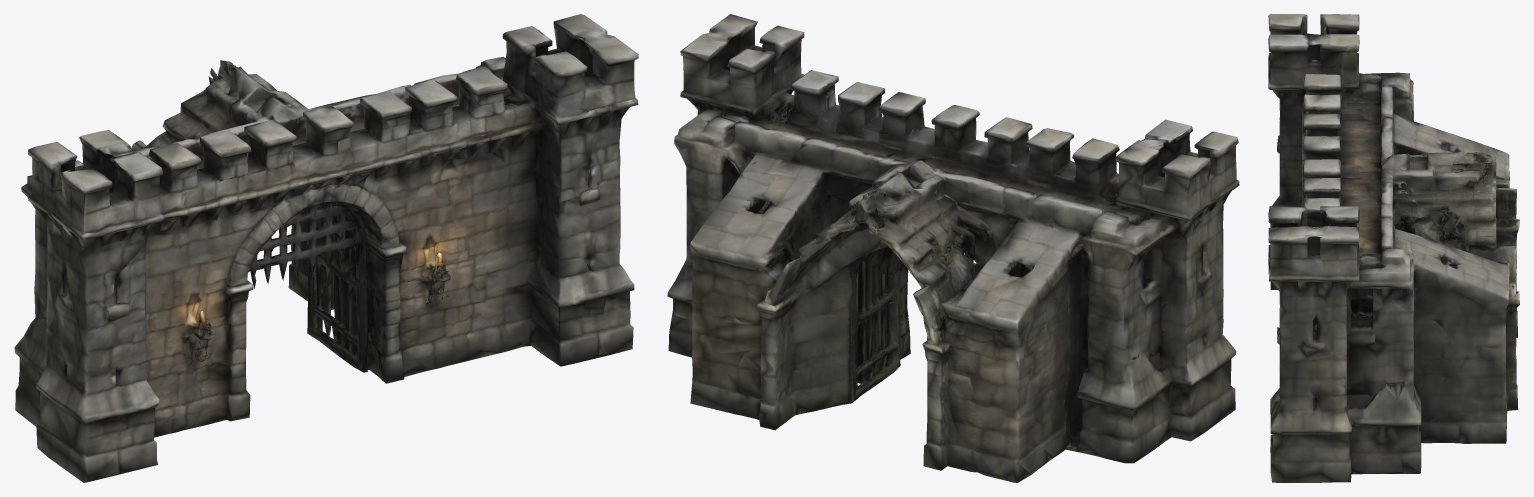
The model's file is fort_m_savanna_gate.glb.
3 views of the same model, side by side, from view 1: azimuth 30°, elevation 25°; view 2: azimuth 150°, elevation 25°; view 3: azimuth 270°, elevation 25° (orthographic). The views are drawn at different scales.
Visible parts, largest first — view 1: fort_m_savanna_gate; view 2: fort_m_savanna_gate; view 3: fort_m_savanna_gate.
Boxes of the visible parts, <box> form: fort_m_savanna_gate: <box>14,14,638,482</box>; fort_m_savanna_gate: <box>667,14,1239,482</box>; fort_m_savanna_gate: <box>1268,14,1519,482</box>.
Size of the model in its own units: 1.9 by 0.9727 by 0.9.
Materials: 1 (1 with a texture image).
